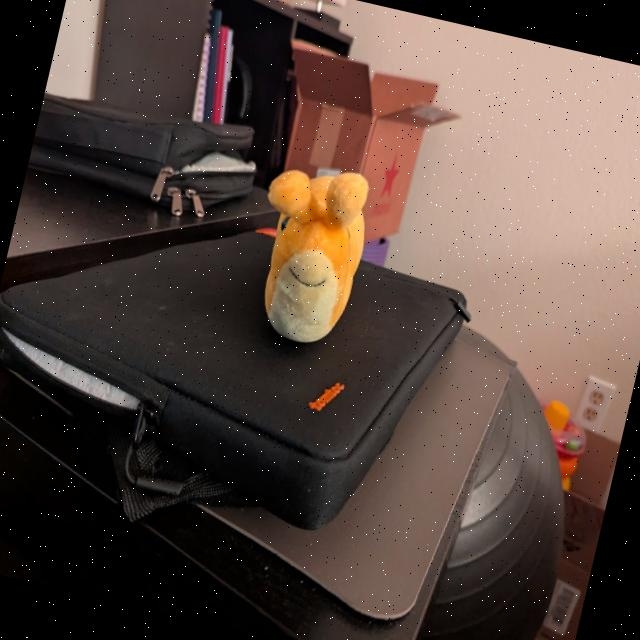banana-slug-toy: (232, 156, 384, 364)
